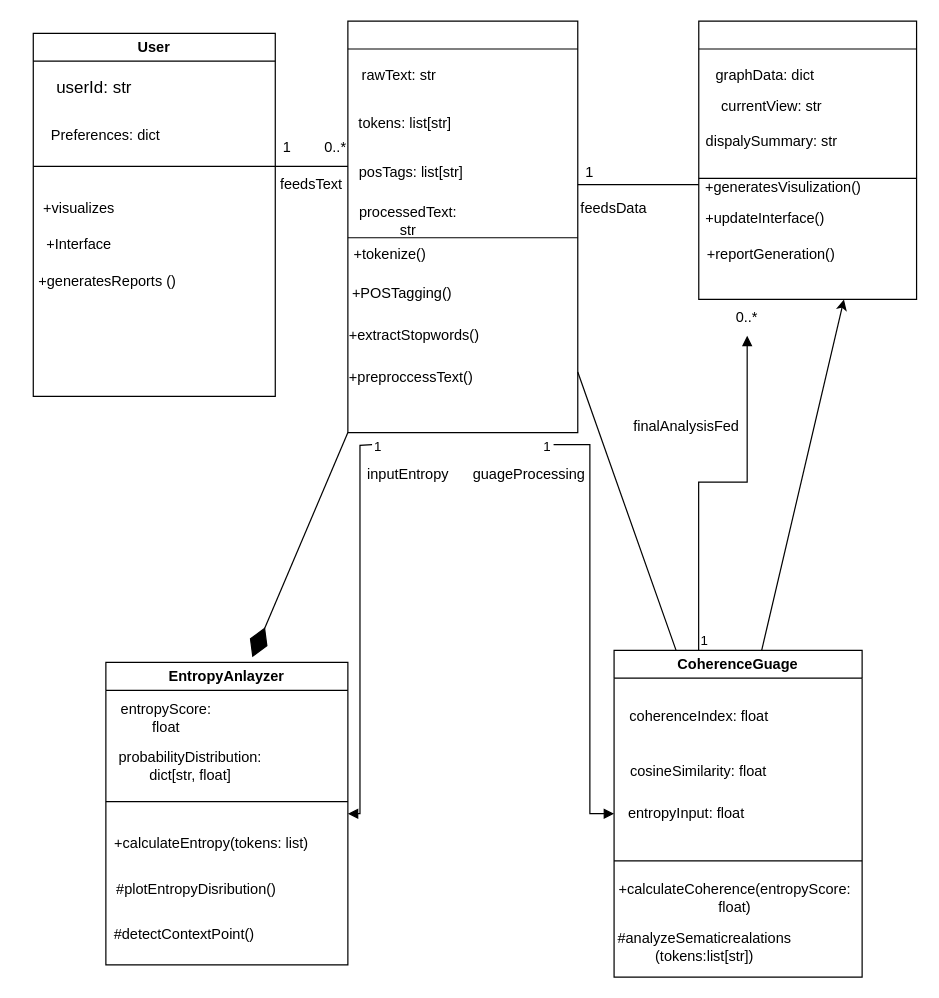
Some shapes in this 939 by 998 pixel diagram are drawn without their labels. Each missing label, with the box of its shape:
TextAnalyzer: (347, 20, 578, 433)
VisualizationInterface: (698, 20, 917, 299)
